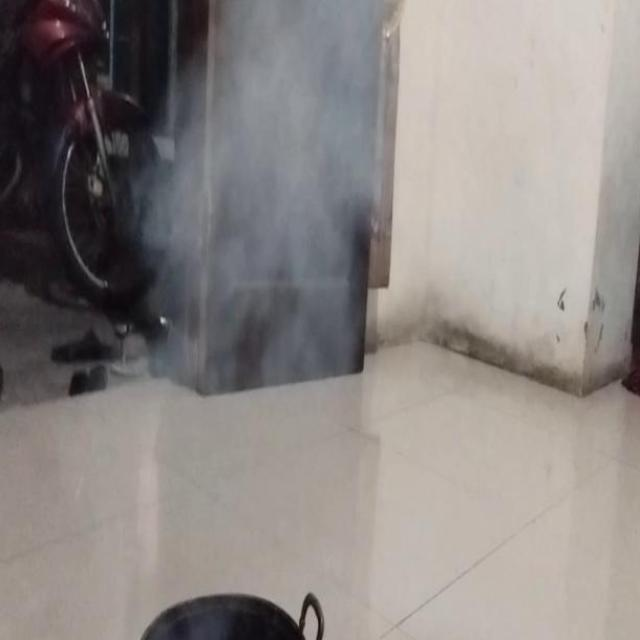fire: (137, 0, 396, 379)
